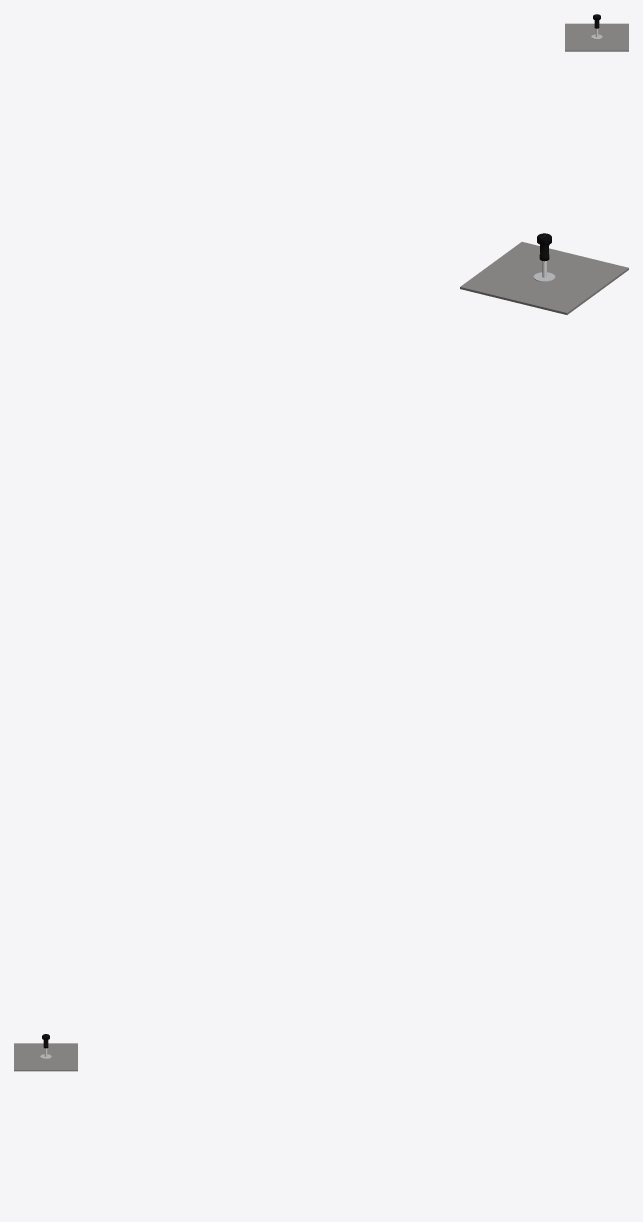
File: sweet_air.glb
3 renders of one model, top to bottom at view 1: azimuth 90°, elevation 25°; view 2: azimuth 150°, elevation 25°; view 3: azimuth 270°, elevation 25°, orthographic. The views are drawn at different scales.
Parts seen in each view (by area): view 1: ctx_roof; view 2: ctx_roof; view 3: ctx_roof.
Boxes of the visible parts, box(x1,y1,x2,y2) form: ctx_roof: box(565, 23, 628, 51); ctx_roof: box(460, 242, 628, 314); ctx_roof: box(14, 1043, 77, 1071).
Bounding box in the file's own units: 1.6 × 4.99 × 15.37.
13 materials, 3 textured.
